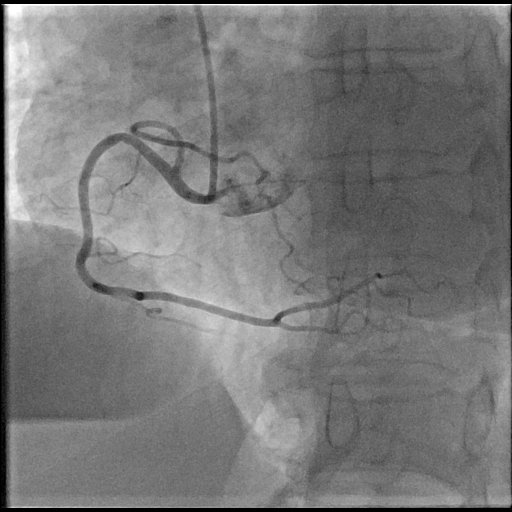RCA: (74, 122, 383, 335)
catherter: (195, 6, 217, 203)
